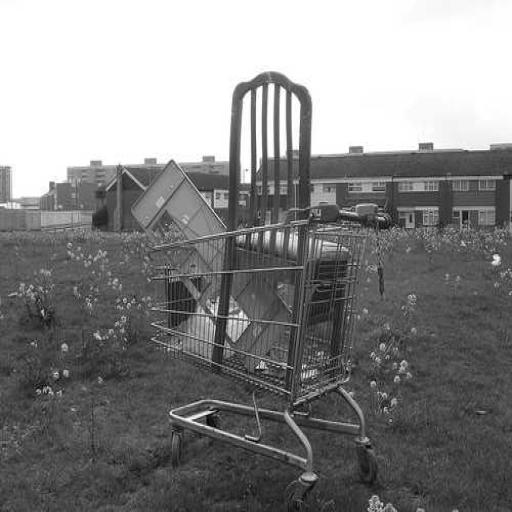shopping_cart: (146, 203, 395, 512)
